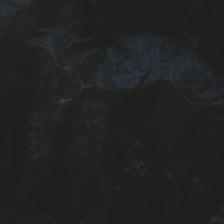landslides: (55, 37, 90, 56), (40, 33, 53, 51), (0, 194, 13, 211), (98, 66, 107, 89), (113, 75, 122, 90), (77, 78, 86, 90)
